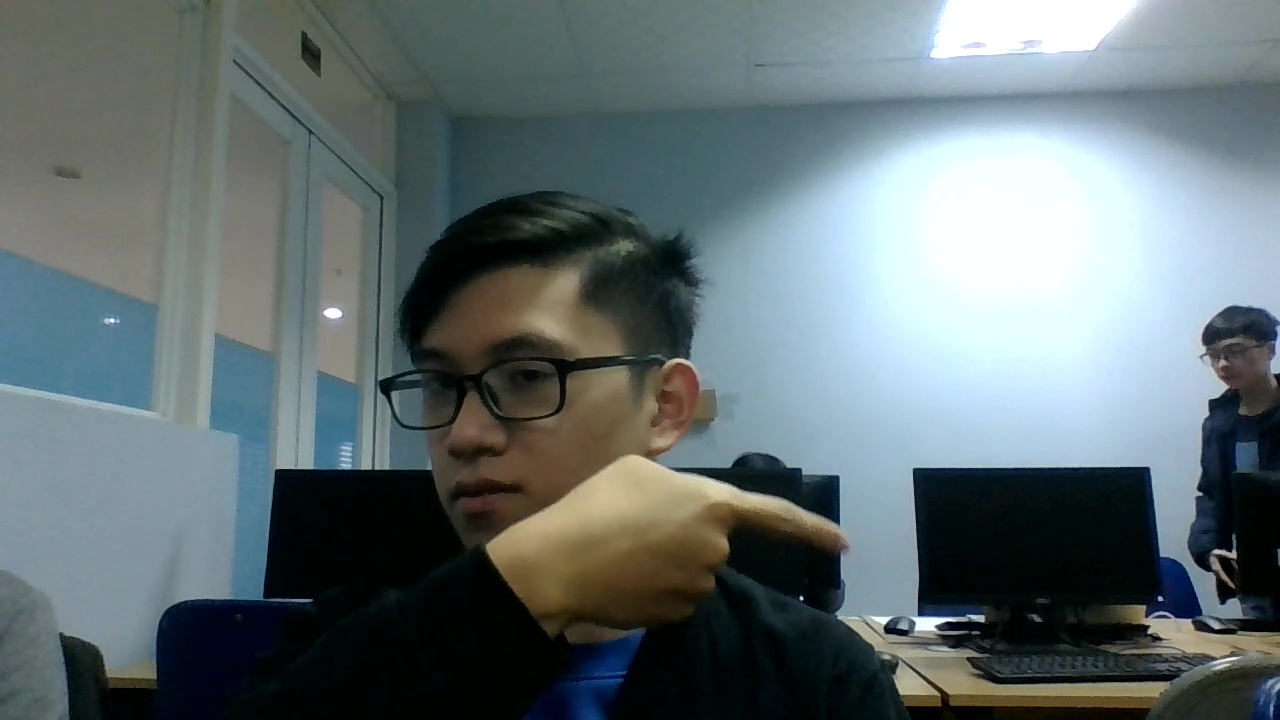left: (540, 440, 860, 653)
